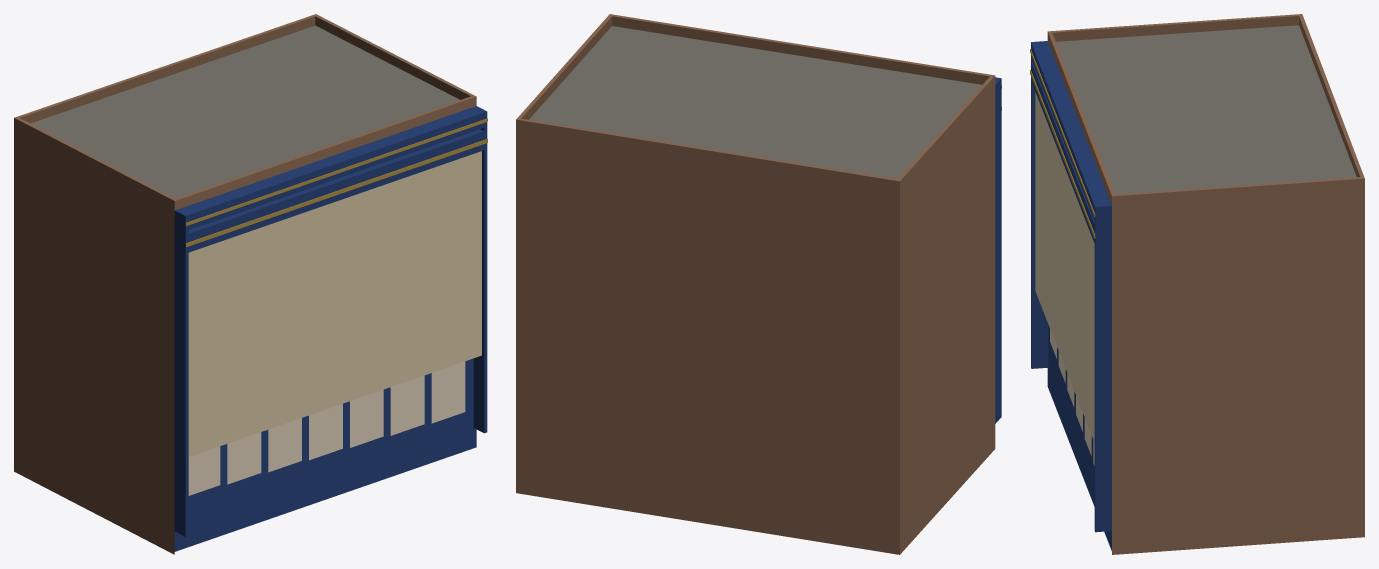
Rendered from hallidie_lod1.glb.
The picture shows the model from 3 angles, left to right: view 1: azimuth 30°, elevation 25°; view 2: azimuth 150°, elevation 25°; view 3: azimuth 270°, elevation 25°; orthographic projection. The views are drawn at different scales.
Parts seen in each view (by area): view 1: L1_brickred, L1_win, L1_roof, L1_paint, L1_metal, L1_shop, L1_gold; view 2: L1_brickred, L1_roof, L1_paint; view 3: L1_brickred, L1_roof, L1_paint, L1_win, L1_metal, L1_gold, L1_shop.
Boxes of the visible parts, x1,y1,x2,y2 form: L1_brickred: (14, 14, 476, 554); L1_win: (188, 151, 481, 456); L1_roof: (30, 25, 459, 198); L1_paint: (174, 106, 487, 536); L1_metal: (174, 358, 476, 551); L1_shop: (188, 361, 465, 495); L1_gold: (185, 118, 487, 247); L1_brickred: (516, 14, 995, 554); L1_roof: (529, 26, 981, 179); L1_paint: (995, 77, 1001, 423); L1_brickred: (1047, 14, 1364, 554); L1_roof: (1056, 25, 1356, 194); L1_paint: (1031, 41, 1111, 532); L1_win: (1035, 92, 1094, 442); L1_metal: (1047, 325, 1111, 550); L1_gold: (1030, 49, 1095, 238); L1_shop: (1050, 329, 1094, 465).
Size of the model in its own units: 32.97 by 30.04 by 25.41.
